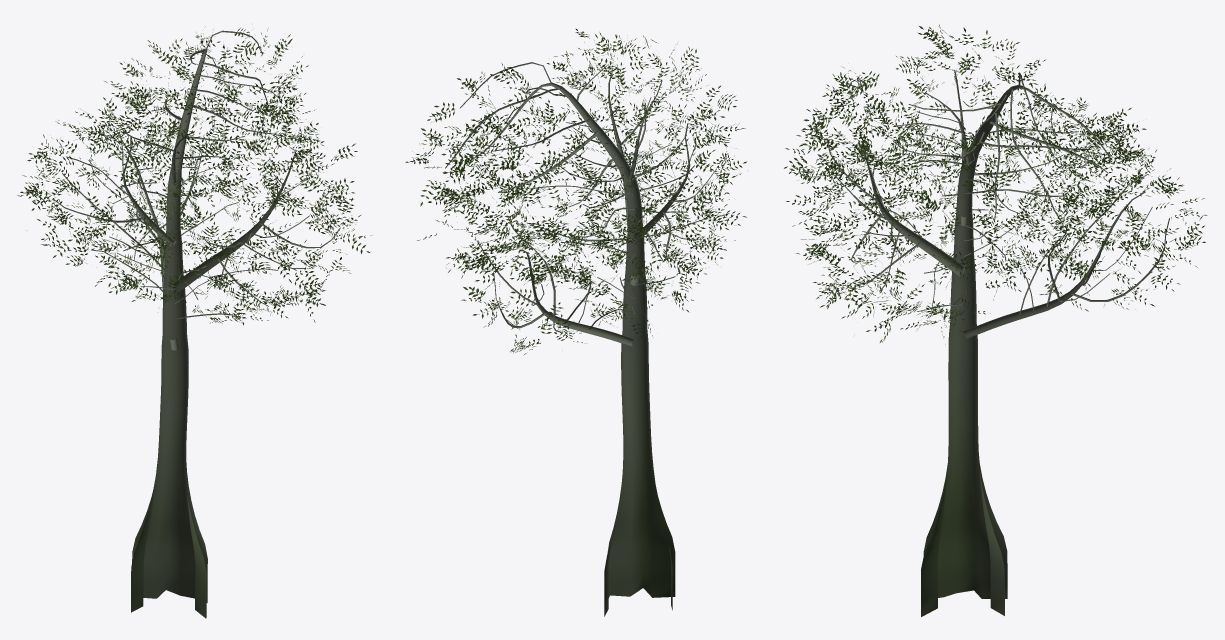
File: SM_Tree_rowan_2.glb
3 views of the same model, side by side, from view 1: azimuth 30°, elevation 25°; view 2: azimuth 150°, elevation 25°; view 3: azimuth 270°, elevation 25° (orthographic). The views are drawn at different scales.
Parts seen in each view (by area): view 1: SM_Tree_rowan_2; view 2: SM_Tree_rowan_2; view 3: SM_Tree_rowan_2.
Boxes of the visible parts, x1=… form: SM_Tree_rowan_2: x1=17, y1=26, x2=371, y2=618; SM_Tree_rowan_2: x1=405, y1=28, x2=746, y2=616; SM_Tree_rowan_2: x1=784, y1=24, x2=1207, y2=616.
Size of the model in its own units: 4.33 by 8.28 by 5.37.
